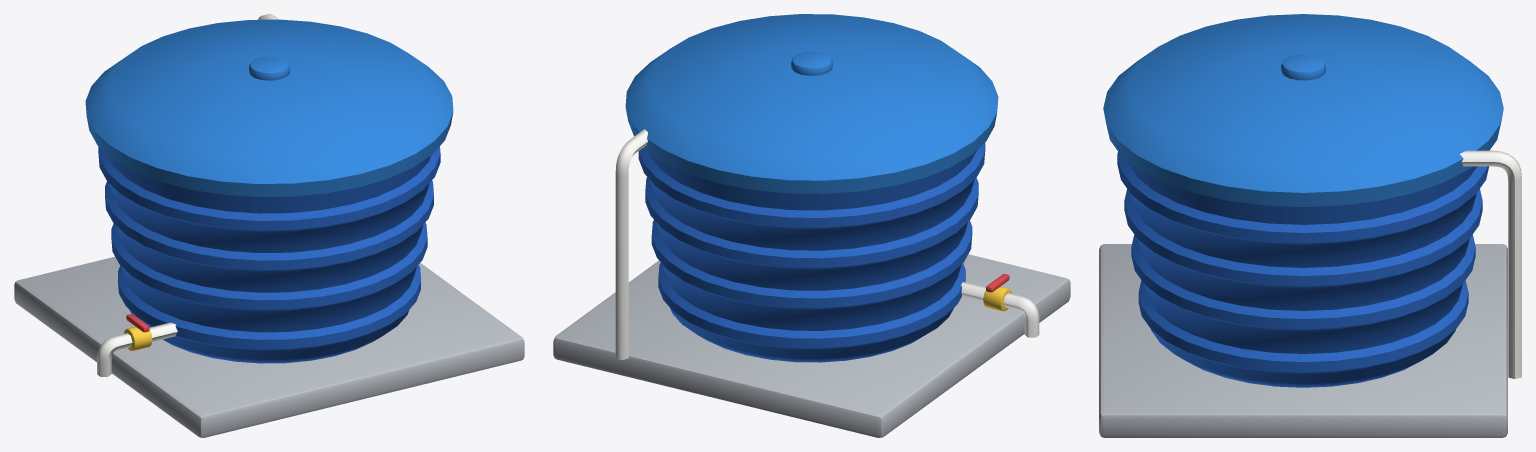
Rendered from caixa_dagua_fibra.glb.
The picture shows the model from 3 angles, left to right: view 1: azimuth 30°, elevation 25°; view 2: azimuth 150°, elevation 25°; view 3: azimuth 270°, elevation 25°; orthographic projection. The views are drawn at different scales.
Visible parts, largest first — view 1: caixa_dagua_fibra; view 2: caixa_dagua_fibra; view 3: caixa_dagua_fibra.
Part boxes in pixels (bbox=[...]): caixa_dagua_fibra: bbox=[14, 14, 524, 437]; caixa_dagua_fibra: bbox=[553, 14, 1070, 437]; caixa_dagua_fibra: bbox=[1099, 14, 1521, 437].
Bounding box in the file's own units: 1.6 × 1.14 × 1.5.
Materials: 1 (1 with a texture image).
